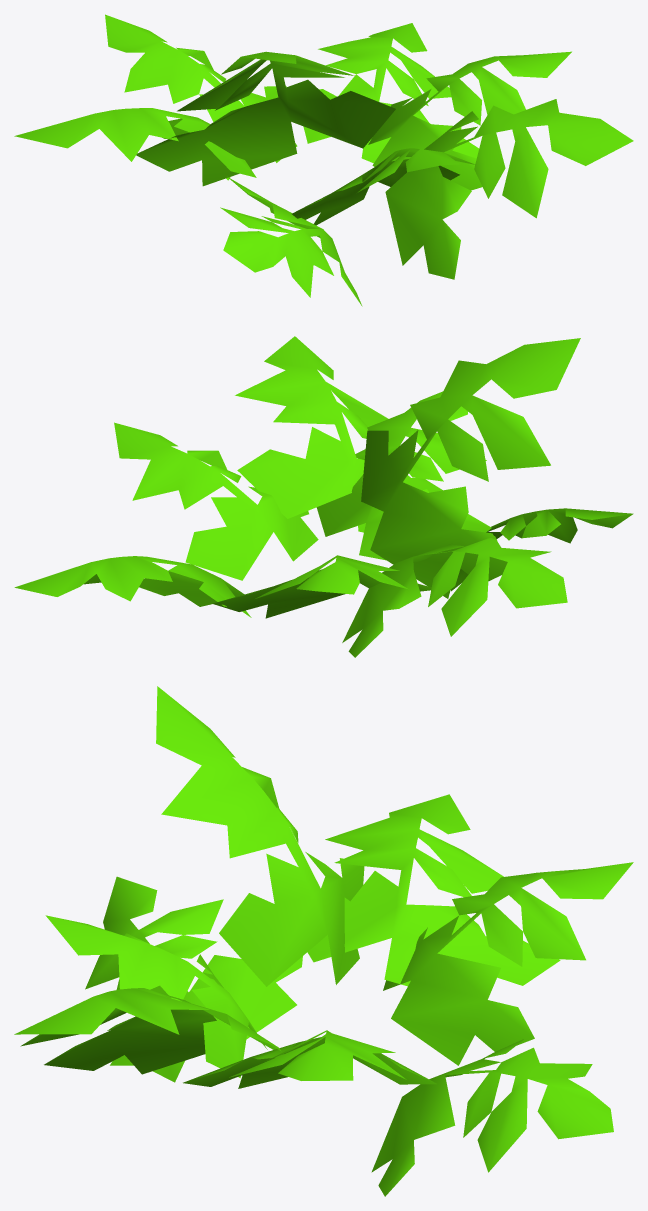
Rendered from Bush.fbx.
The picture shows the model from 3 angles, top to bottom: view 1: azimuth 30°, elevation 25°; view 2: azimuth 150°, elevation 25°; view 3: azimuth 270°, elevation 25°; orthographic projection. The views are drawn at different scales.
Visible parts, largest first — view 1: GWBush.001; view 2: GWBush.001; view 3: GWBush.001.
Part boxes in pixels (left/top/right/bottom): GWBush.001: left=14, top=14, right=633, bottom=306; GWBush.001: left=14, top=336, right=633, bottom=657; GWBush.001: left=14, top=686, right=633, bottom=1196.
Size of the model in its own units: 133 by 68.38 by 118.
